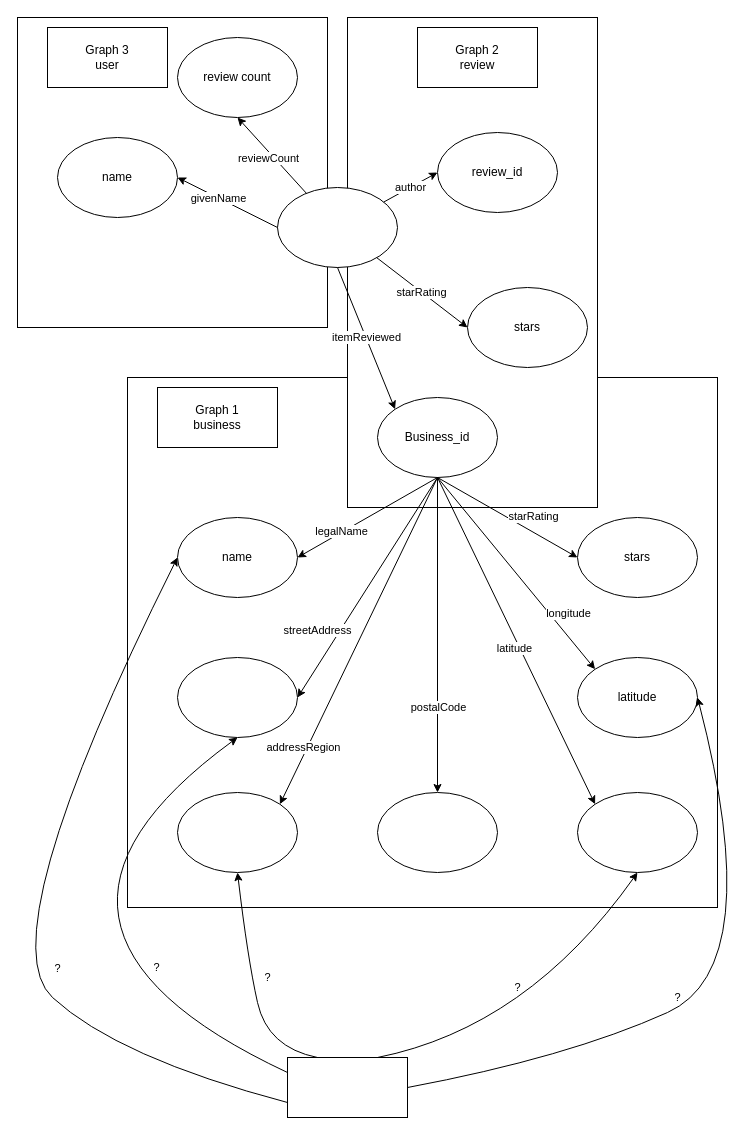
Some shapes in this 745 by 1135 pixel diagram are drawn without their labels. The shapes that lost their labels are listed below. From the top down, each one's centre as x and y in pixels, then its label:
At [337,227]: "user_id".
At [237,697]: "address".
At [237,832]: "state".
At [437,832]: "postal_code".
At [637,832]: "longtitude".
At [347,1087]: "dbpedia".
